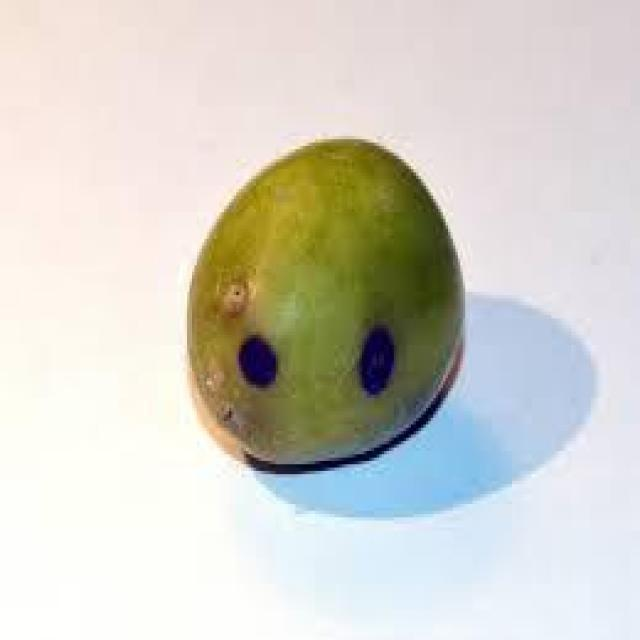Anthracnose: (187, 139, 463, 461)
